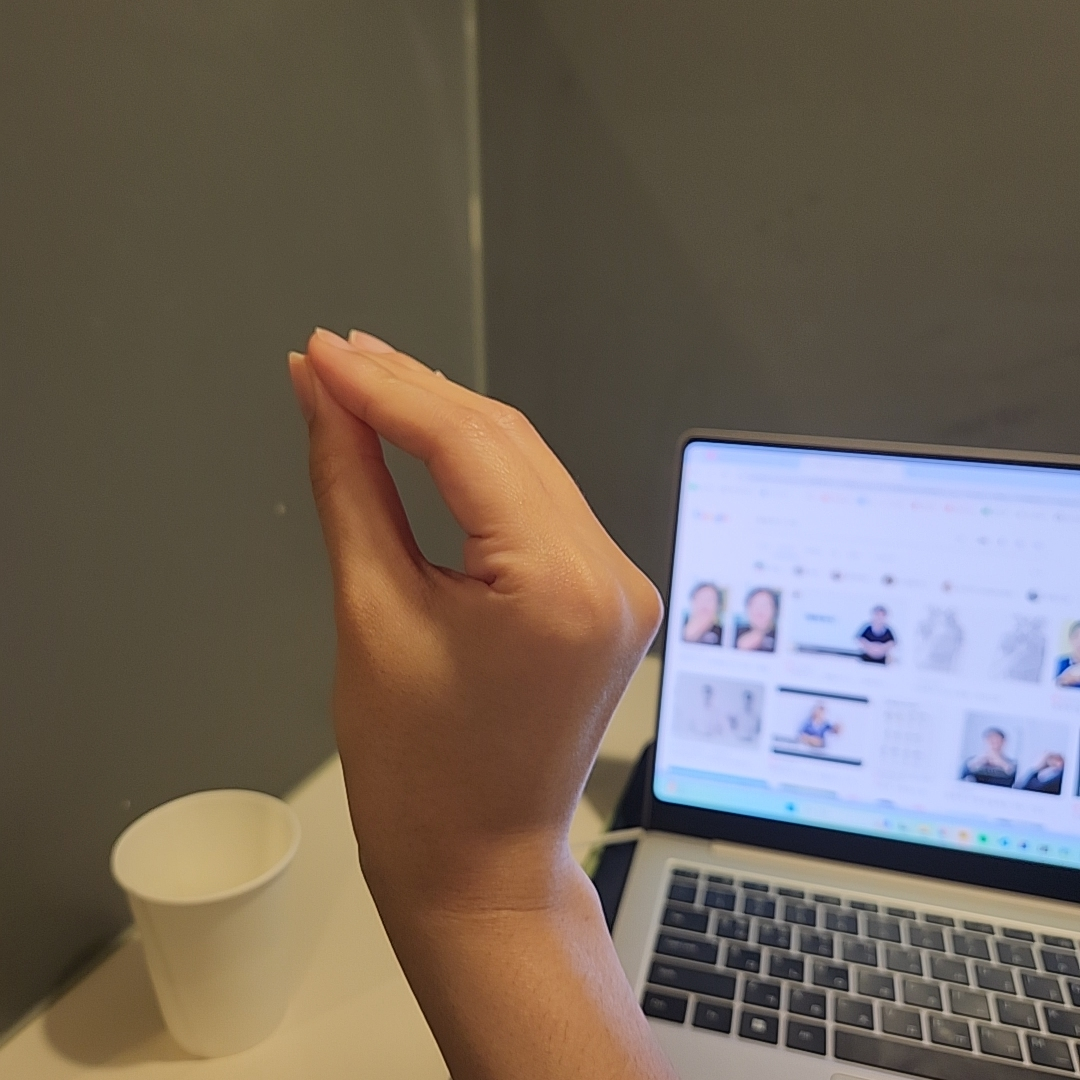happy: (288, 325, 660, 880)
